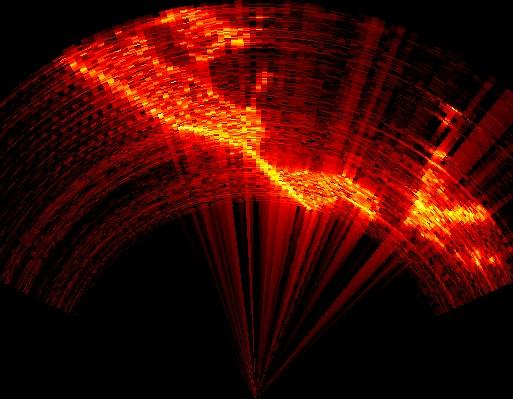shipwreck: (71, 9, 481, 231)
